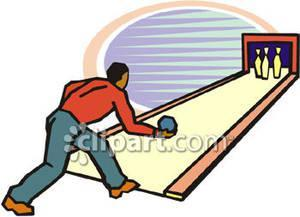person: (2, 59, 176, 214)
